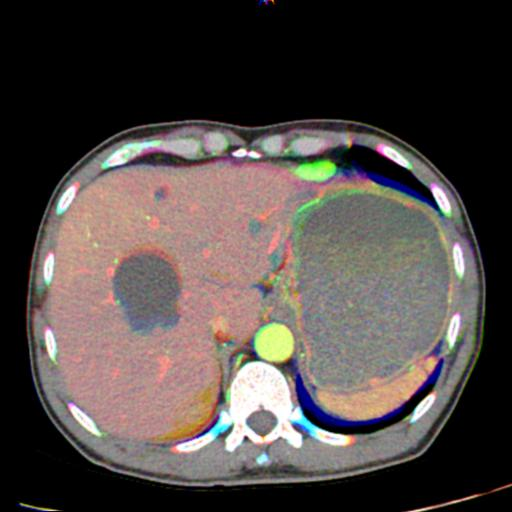Cyst: (112, 252, 180, 333)
